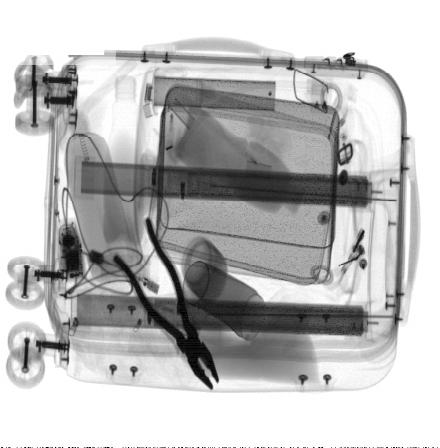Pliers: (111, 213, 220, 390)
